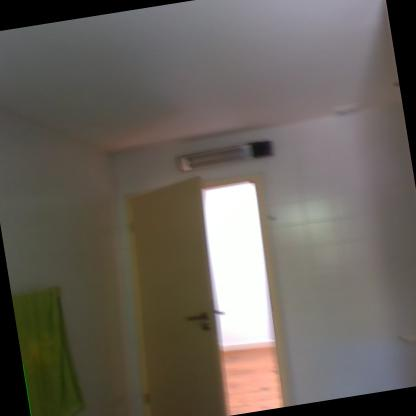semi: (107, 164, 304, 415)
